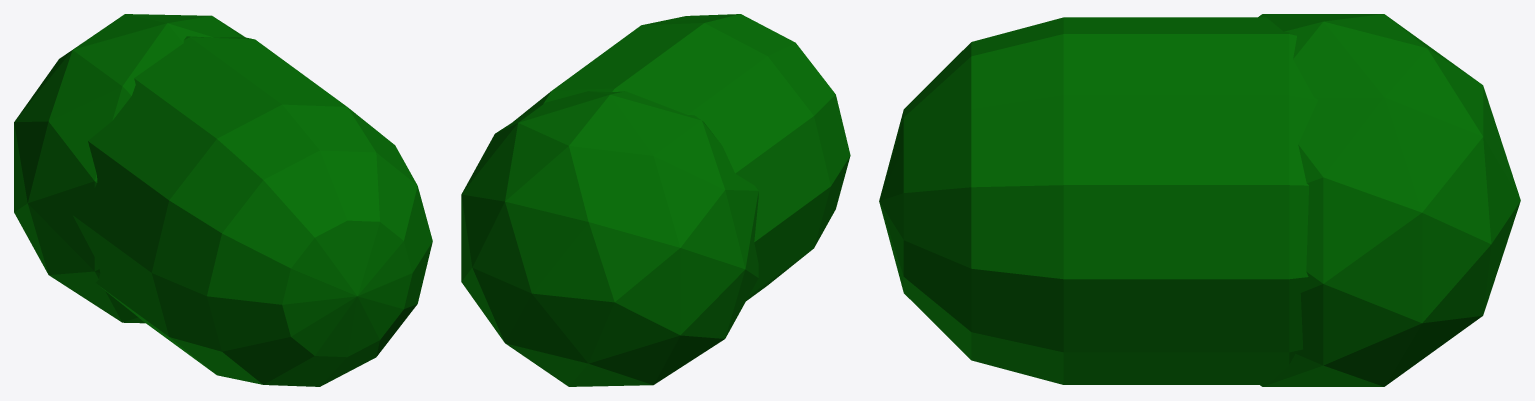
Rendered from _leg-shank-0.glb.
3 renders of one model, left to right at view 1: azimuth 30°, elevation 25°; view 2: azimuth 150°, elevation 25°; view 3: azimuth 270°, elevation 25°, orthographic. The views are drawn at different scales.
Size of the model in its own units: 0.1278 by 0.1278 by 0.2077.
